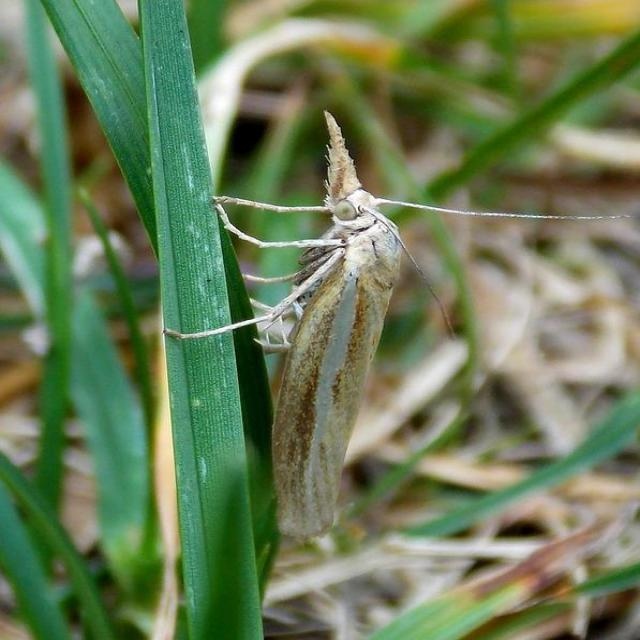yellow-stem-borer: (152, 98, 446, 544)
